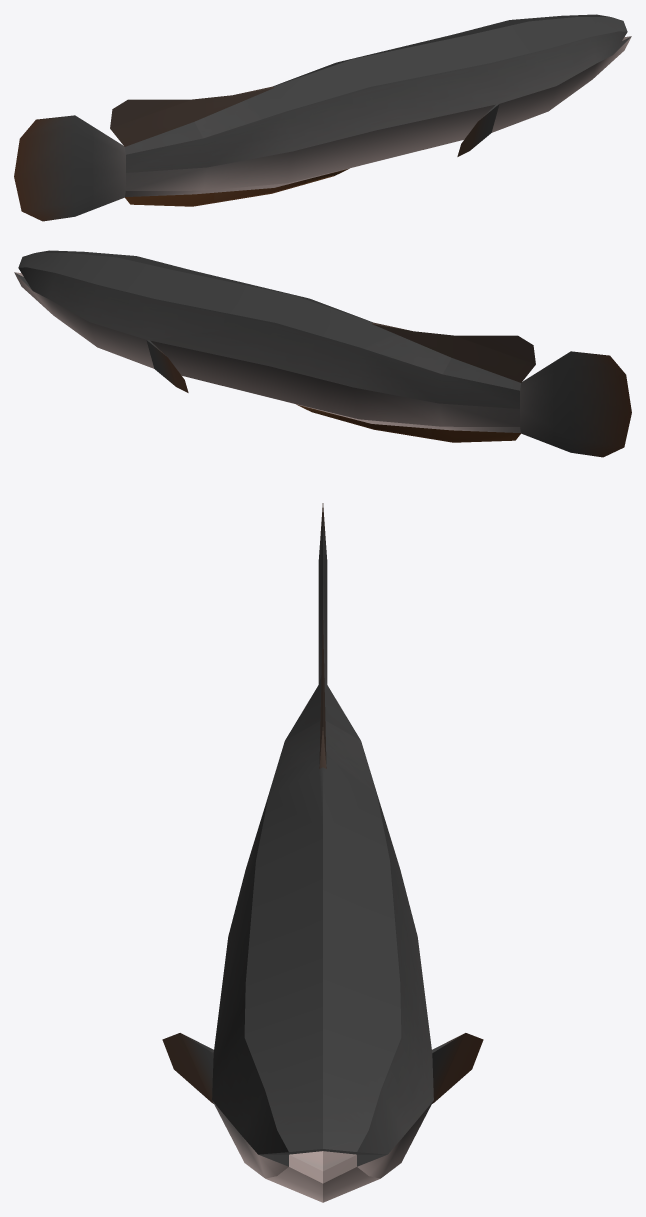
Rendered from SM_Fish.fbx.
3 views of the same model, one above another, from view 1: azimuth 30°, elevation 25°; view 2: azimuth 150°, elevation 25°; view 3: azimuth 270°, elevation 25° (orthographic). The views are drawn at different scales.
Parts seen in each view (by area): view 1: SM_Fish_LOD0; view 2: SM_Fish_LOD0; view 3: SM_Fish_LOD0.
Boxes of the visible parts, left/top/right/bottom form: SM_Fish_LOD0: left=14, top=14, right=631, bottom=221; SM_Fish_LOD0: left=14, top=250, right=631, bottom=457; SM_Fish_LOD0: left=162, top=503, right=483, bottom=1202.
Size of the model in its own units: 480 by 98.82 by 109.
